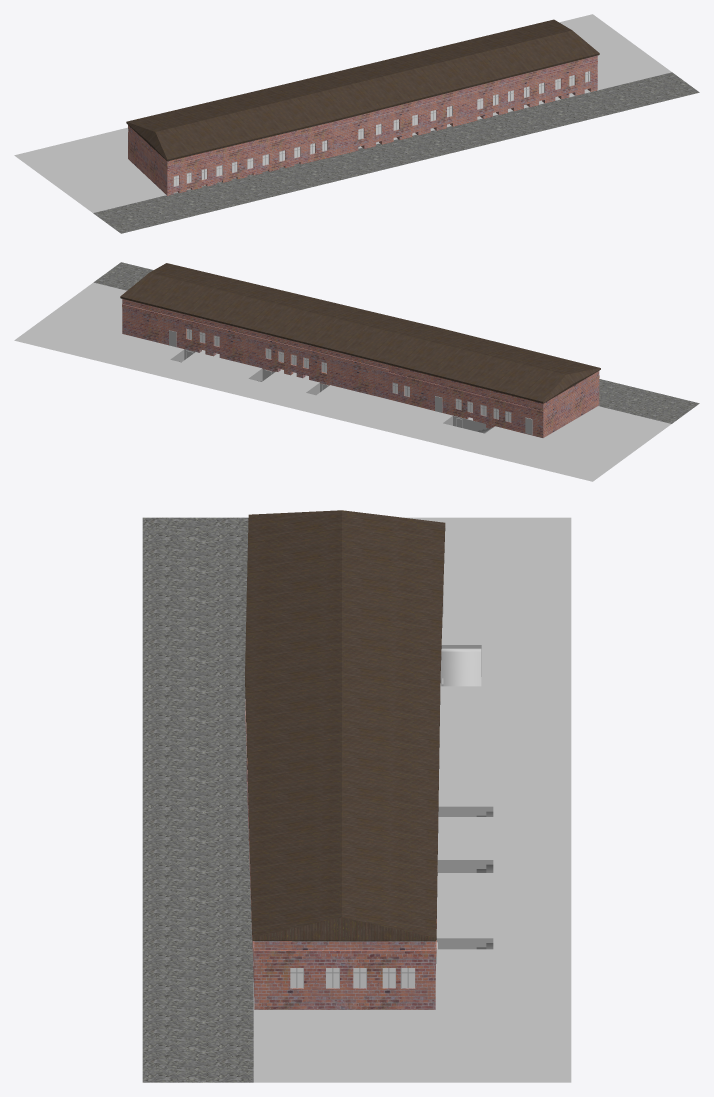
3 renders of one model, top to bottom at view 1: azimuth 30°, elevation 25°; view 2: azimuth 150°, elevation 25°; view 3: azimuth 270°, elevation 25°, orthographic. The views are drawn at different scales.
Parts seen in each view (by area): view 1: Plane, Cube, база, Plane.005, база.100; view 2: Plane, Cube, база, Plane.005, база.100; view 3: Plane, Cube, база, Stairs.003, база.100.
Boxes of the visible parts, x1,y1,x2,y2 form: Plane: [14, 14, 699, 233]; Cube: [126, 19, 599, 161]; база: [332, 55, 597, 156]; Plane.005: [128, 122, 332, 195]; база.100: [173, 71, 590, 186]; Plane: [14, 262, 699, 481]; Cube: [120, 263, 600, 403]; база: [122, 299, 388, 398]; Plane.005: [388, 365, 599, 437]; база.100: [186, 329, 511, 422]; Plane: [142, 517, 571, 1082]; Cube: [245, 510, 445, 941]; база: [245, 699, 436, 1009]; Stairs.003: [440, 648, 481, 686]; база.100: [290, 968, 415, 988].
Bounding box in the file's own units: 8.53 × 0.8894 × 2.74.
